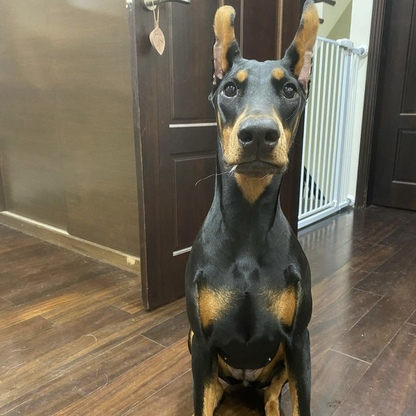doberman: (186, 7, 333, 410)
